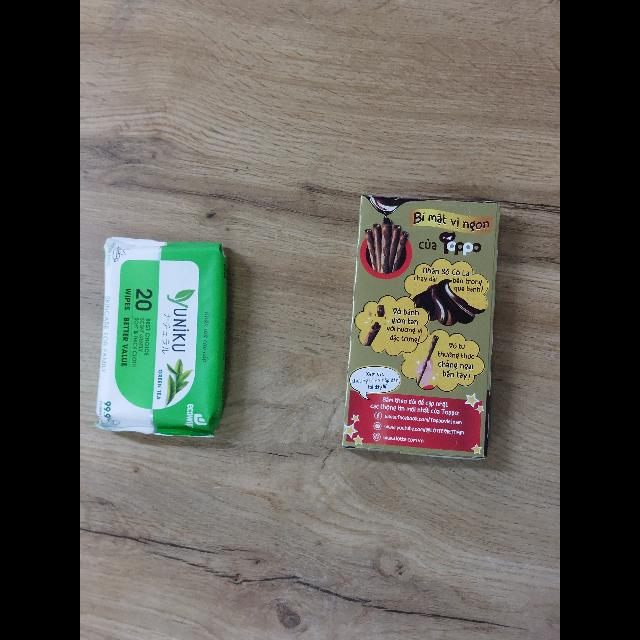banh_toppo_socola: (342, 195, 499, 459)
khan_giay: (97, 238, 226, 436)
